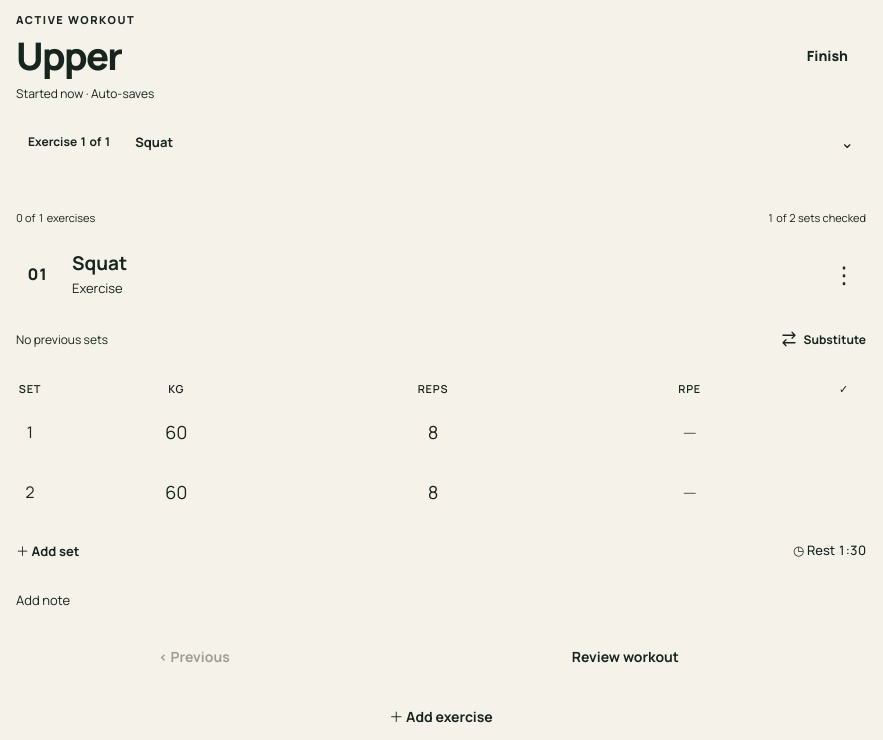
Test: keeps set removal in the exercise menu and updates progress after removal
Click the heading named "Squat actions" at (844, 274), box [832,258,856,290]
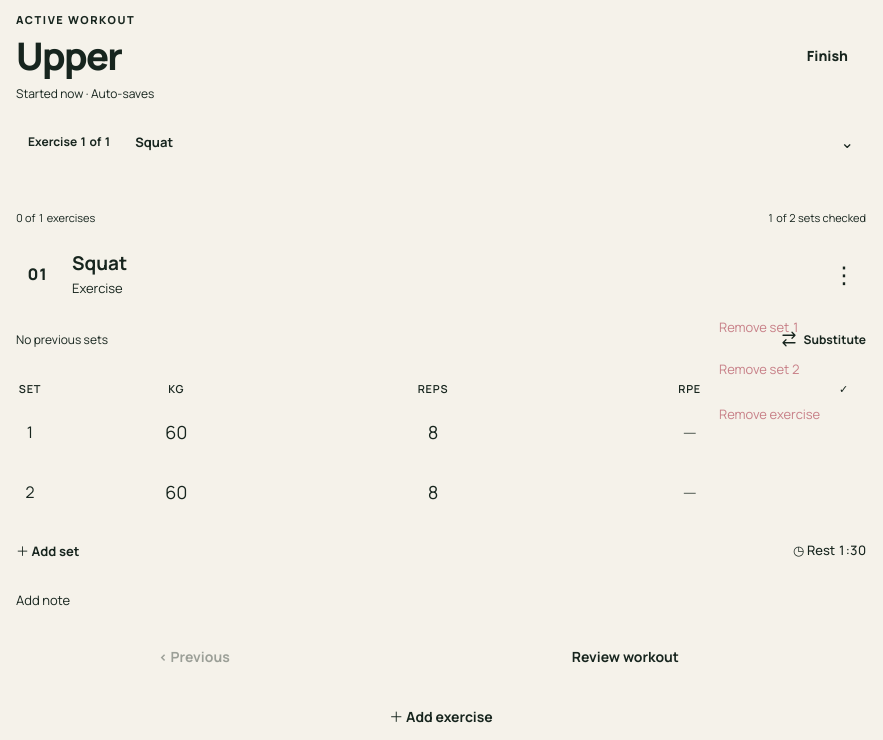
Click the button "Remove set 2" at (784, 369), box [707,350,860,388]
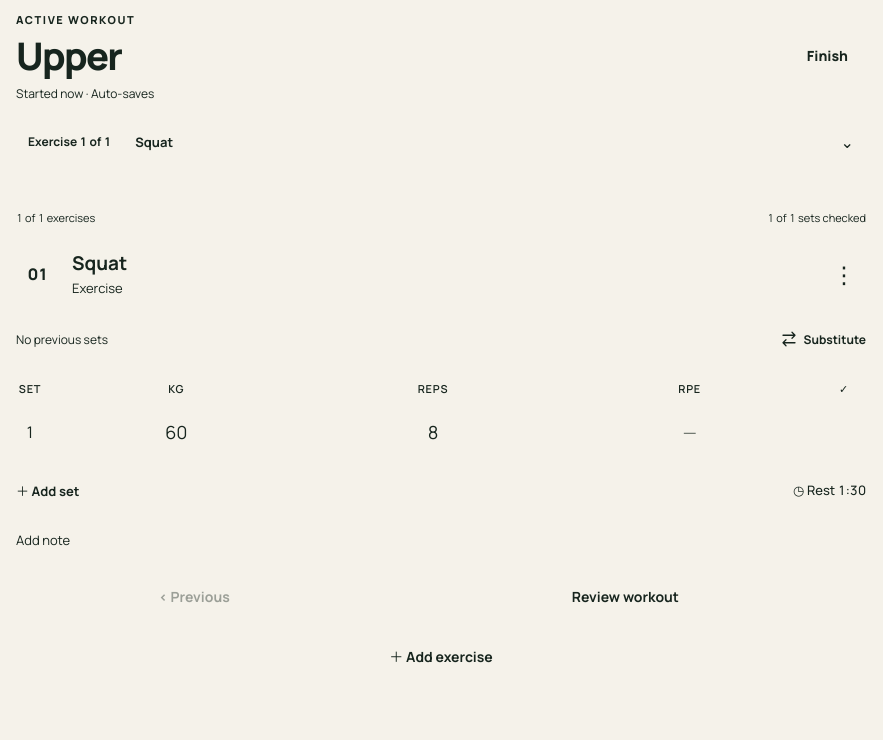
Expected: the text "1 of 1 exercises" is shown, [16,210,95,225]
